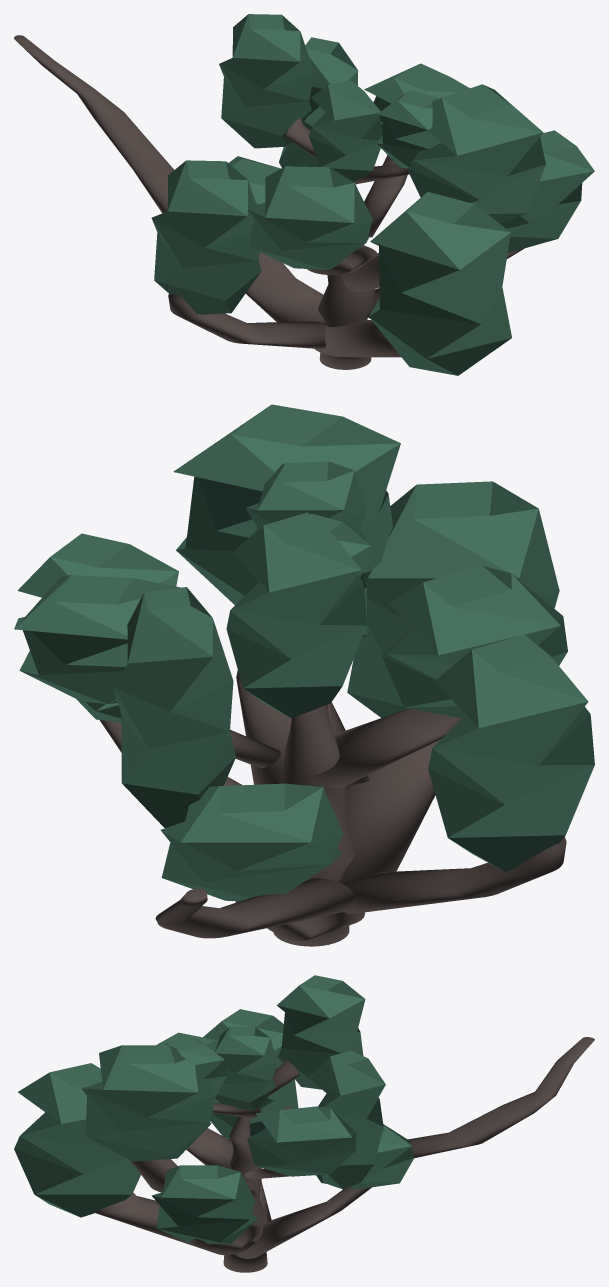
Rendered from Bush.fbx.
The picture shows the model from 3 angles, top to bottom: view 1: azimuth 30°, elevation 25°; view 2: azimuth 150°, elevation 25°; view 3: azimuth 270°, elevation 25°; orthographic projection. The views are drawn at different scales.
Visible parts, largest first — view 1: Leaves.022, Leaves.030, Leaves.025, Leaves.028, Leaves.027, Leaves.023, Leaves.026, Branch.023, Branch.026, Leaves.032, Branch.025, Leaves.029 (+9 smaller); view 2: Leaves.030, Leaves.029, Leaves.027, Leaves.022, Leaves.025, Leaves.024, Leaves.028, Leaves.031, Branch.022, Branch.026, Branch.023, Leaves.032 (+7 smaller); view 3: Leaves.025, Leaves.022, Leaves.026, Leaves.027, Leaves.031, Leaves.029, Branch.023, Leaves.023, Leaves.030, Branch.025, Trunk.005, Leaves.024 (+8 smaller).
Part boxes in pixels (box(x1,y1,x2,y2)): Leaves.022: box(369, 192, 511, 375); Leaves.030: box(151, 160, 261, 314); Leaves.025: box(406, 84, 545, 223); Leaves.028: box(248, 166, 372, 269); Leaves.027: box(219, 14, 314, 148); Leaves.023: box(309, 80, 382, 181); Leaves.026: box(499, 130, 594, 252); Branch.023: box(14, 35, 173, 213); Branch.026: box(168, 294, 325, 348); Leaves.032: box(376, 90, 441, 168); Branch.025: box(246, 252, 324, 322); Leaves.029: box(279, 37, 358, 167); Leaves.030: box(428, 634, 594, 871); Leaves.029: box(113, 587, 235, 827); Leaves.027: box(226, 512, 367, 718); Leaves.022: box(347, 481, 559, 717); Leaves.025: box(173, 404, 400, 604); Leaves.024: box(160, 783, 343, 901); Leaves.028: box(382, 565, 567, 718); Leaves.031: box(14, 575, 180, 703); Branch.022: box(338, 739, 440, 883); Branch.026: box(342, 837, 566, 913); Branch.023: box(155, 878, 356, 938); Leaves.032: box(246, 461, 366, 539); Leaves.025: box(81, 1045, 215, 1161); Leaves.022: box(14, 1063, 140, 1217); Leaves.026: box(151, 1165, 257, 1245); Leaves.027: box(277, 975, 365, 1089); Leaves.031: box(247, 1106, 356, 1176); Leaves.029: box(310, 1050, 385, 1189); Branch.023: box(408, 1037, 594, 1158); Leaves.023: box(215, 1026, 277, 1110); Leaves.030: box(203, 1009, 298, 1138); Branch.025: box(235, 1187, 371, 1258); Trunk.005: box(223, 1116, 267, 1272); Leaves.024: box(316, 1124, 414, 1189).
Size of the model in its own units: 175 by 134 by 265.
